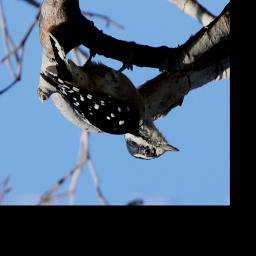Woodpecker: (38, 32, 182, 161)
